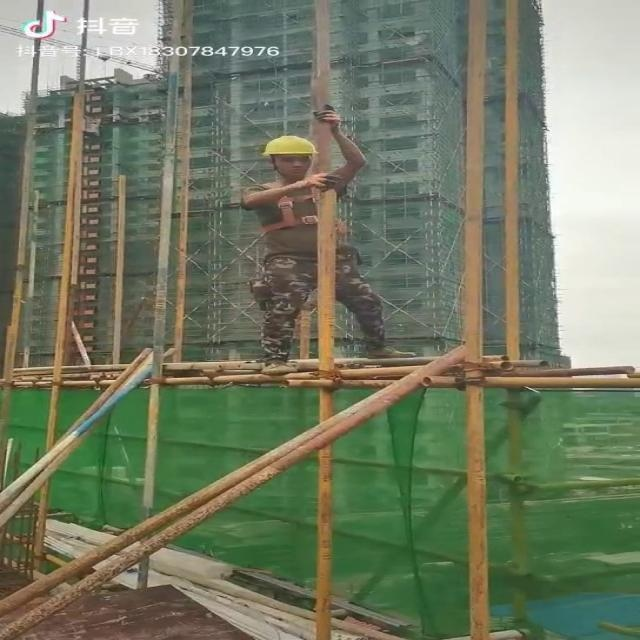Arnes_seguridad: (239, 173, 345, 246)
